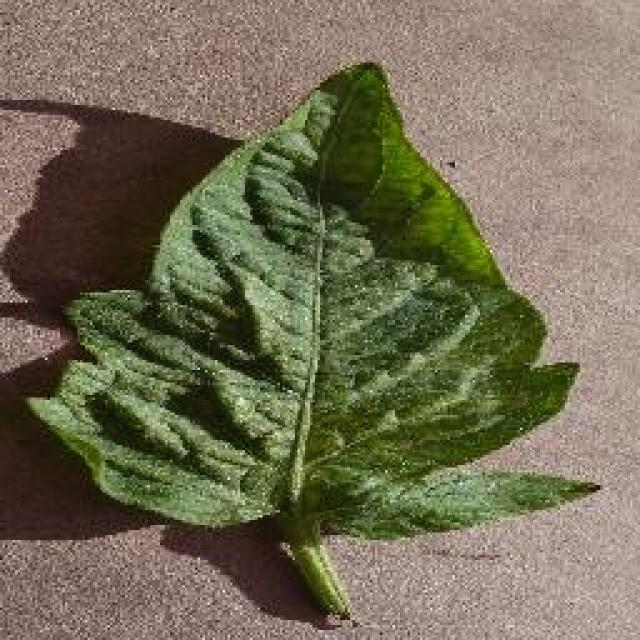Tomato___Spider_mites Two-spotted_spider_mite: (28, 62, 595, 612)
